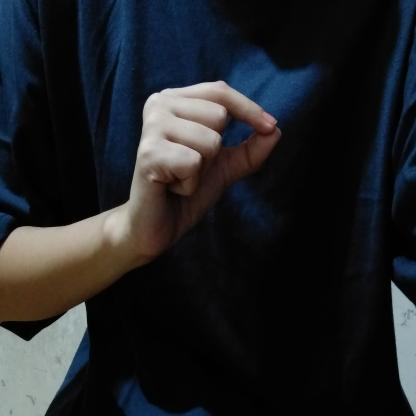nothing: (119, 73, 288, 271)
